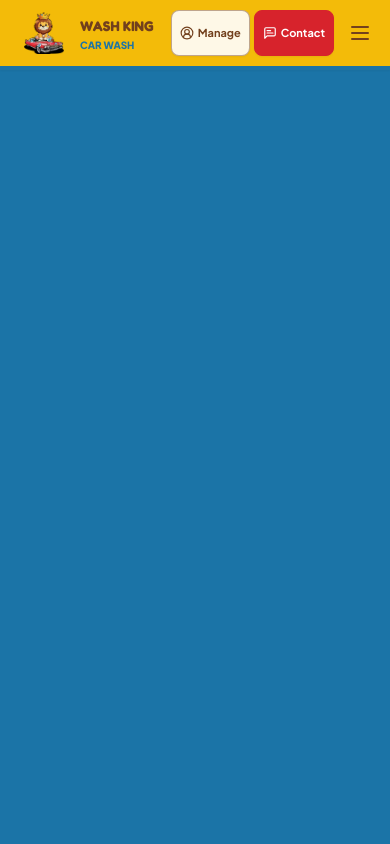
Test: first-visit customer journeys › exposes location and membership actions in mobile navigation
Step 1. Click the button named "Open menu" → x=360, y=33, box [338,11,382,55]
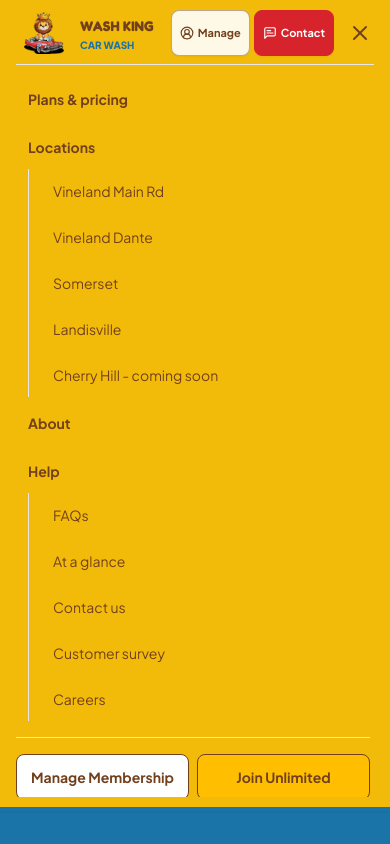
Check: the navigation bar named "Mobile navigation" is shown
Check: the link "Vineland Main Rd" is shown, box [53,182,164,200]
